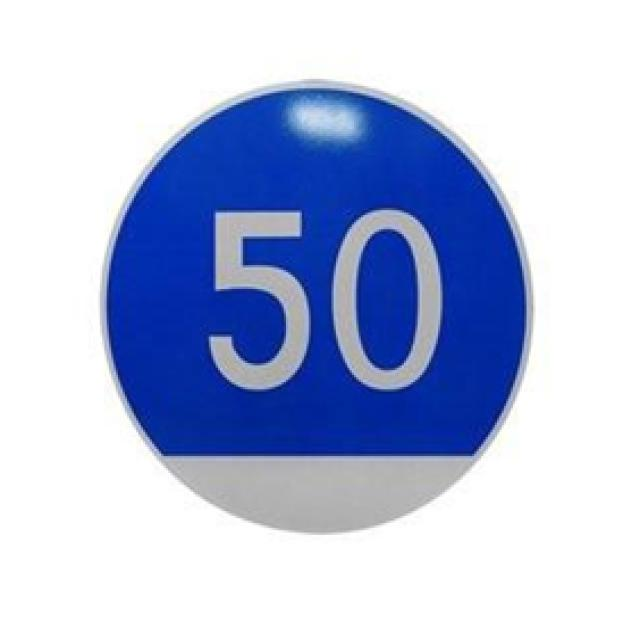speed limit 50: (96, 79, 536, 537)
